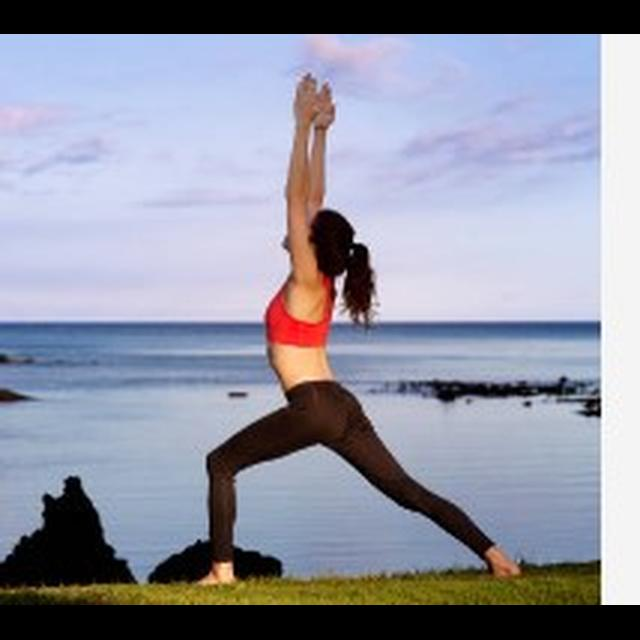Warrior_I: (163, 68, 527, 589)
